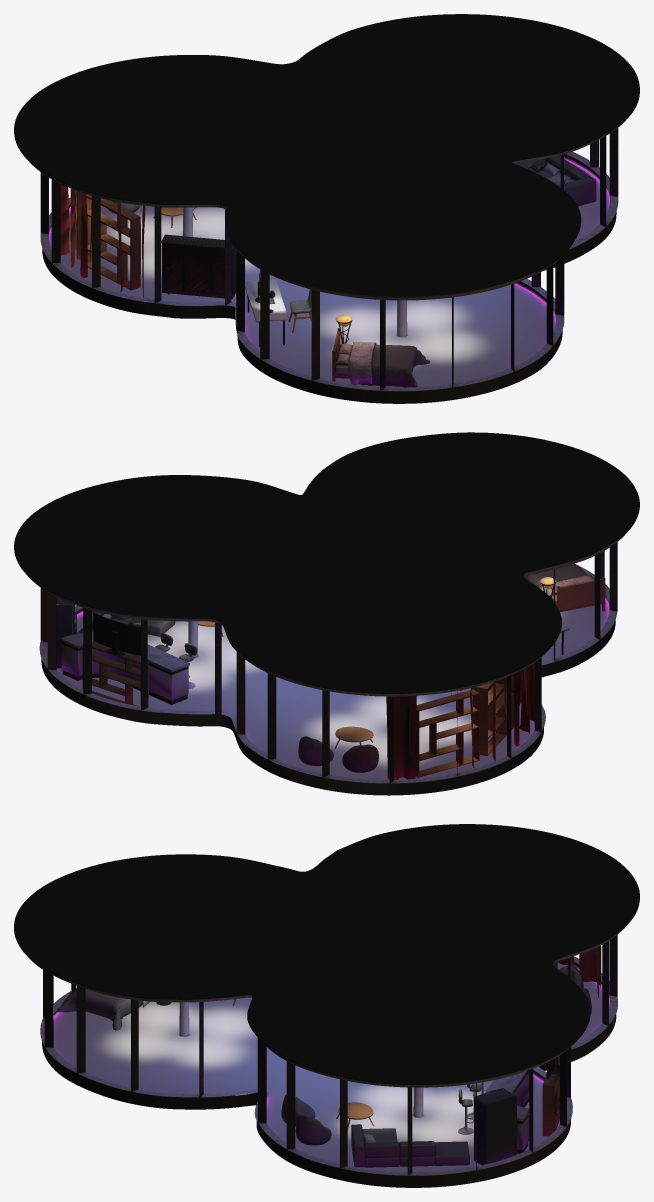
Rendered from kleeblatt_nosky.gltf.
The picture shows the model from 3 angles, top to bottom: view 1: azimuth 30°, elevation 25°; view 2: azimuth 150°, elevation 25°; view 3: azimuth 270°, elevation 25°; orthographic projection. The views are drawn at different scales.
Parts seen in each view (by area): view 1: kleeblatt.001, TV.002; view 2: kleeblatt.001, TV.002; view 3: kleeblatt.001, TV.002.
Boxes of the visible parts, x1=… form: kleeblatt.001: x1=14, y1=14, x2=639, y2=403; TV.002: x1=60, y1=155, x2=596, y2=387; kleeblatt.001: x1=14, y1=432, x2=639, y2=795; TV.002: x1=56, y1=564, x2=605, y2=779; kleeblatt.001: x1=14, y1=824, x2=639, y2=1187; TV.002: x1=57, y1=945, x2=601, y2=1167.
Size of the model in its own units: 17.61 by 3.63 by 17.91.
2 materials, 2 textured.
